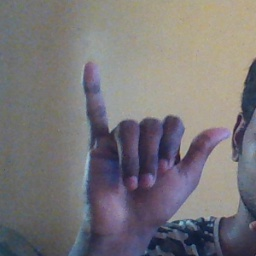J: (80, 62, 236, 235)
